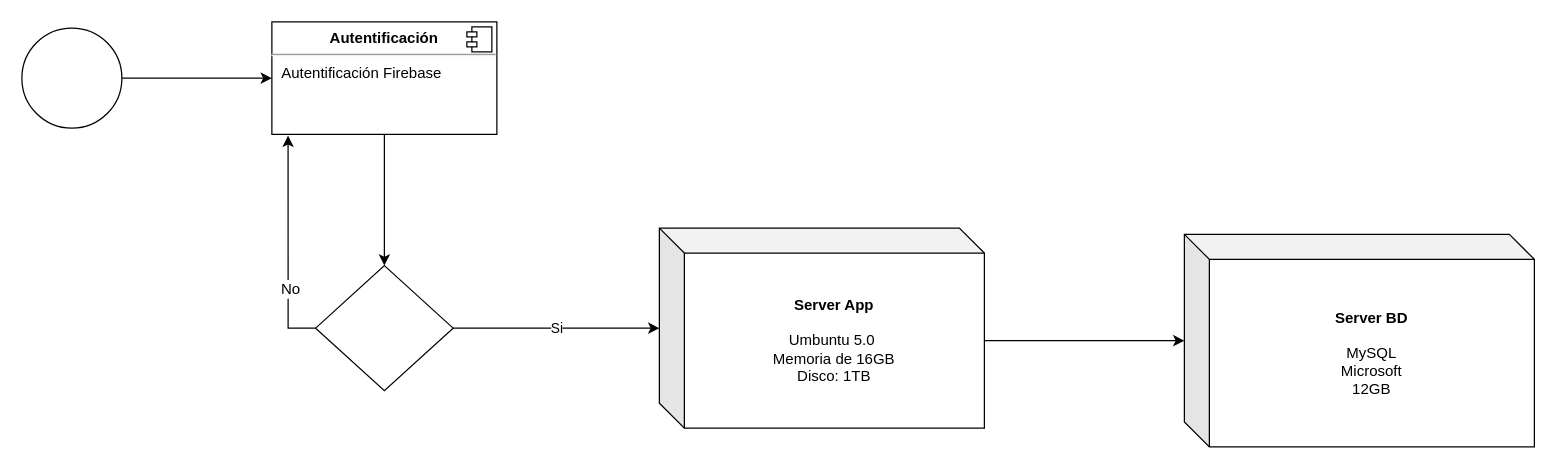
Some shapes in this 1556 by 469 pixel diagram are drawn without their labels. The shapes that lost their labels are listed below. From the top down, each one's centre as x and y in pixels, then its label:
(x=71, y=77): Inicio (registro de usuario)
(x=383, y=327): ¿Es conforme?
